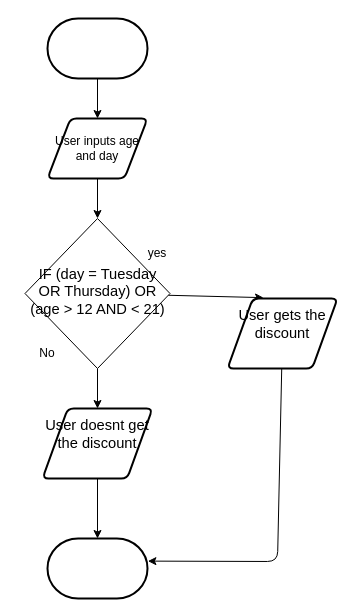
Some shapes in this 355 by 616 pixel diagram are drawn without their labels. The centre of each missing label's shape, as x and y in pixels:
Start: the point at 97,48
Stop: the point at 97,568
